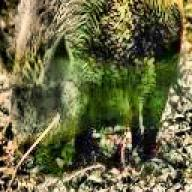boar: (0, 0, 184, 169)
